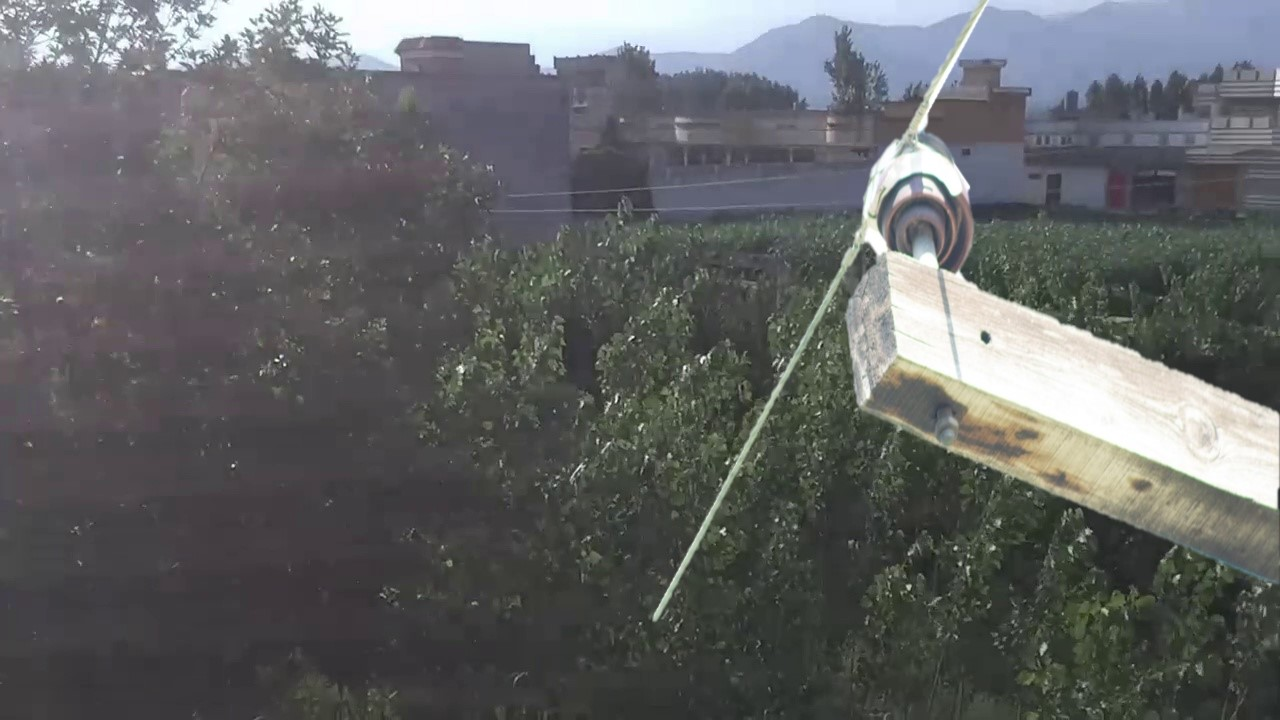defect_pin: (861, 121, 982, 271)
